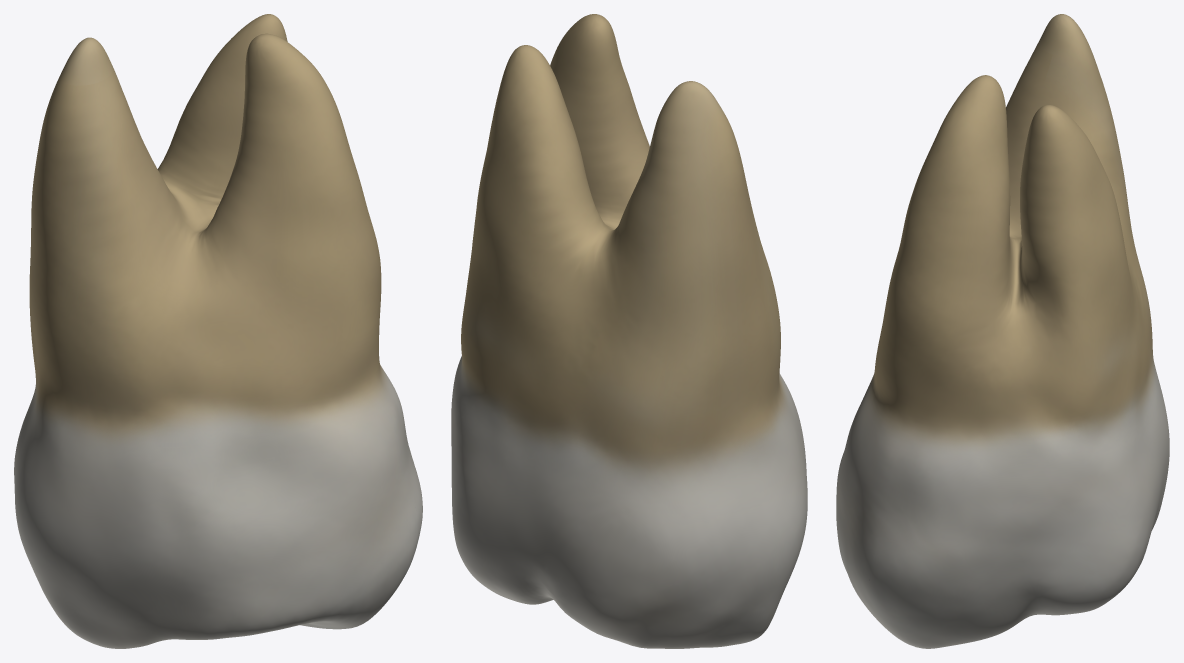
The model's file is maxillary_third_molar.glb.
3 renders of one model, left to right at view 1: azimuth 30°, elevation 25°; view 2: azimuth 150°, elevation 25°; view 3: azimuth 270°, elevation 25°, orthographic. The views are drawn at different scales.
Visible parts, largest first — view 1: Object_2; view 2: Object_2; view 3: Object_2.
Part boxes in pixels (<box>): Object_2: <box>14,14,422,648</box>; Object_2: <box>451,14,807,648</box>; Object_2: <box>836,14,1169,648</box>.
Bounding box in the file's own units: 0.9412 × 1.55 × 0.848.
Materials: 1 (1 with a texture image).
